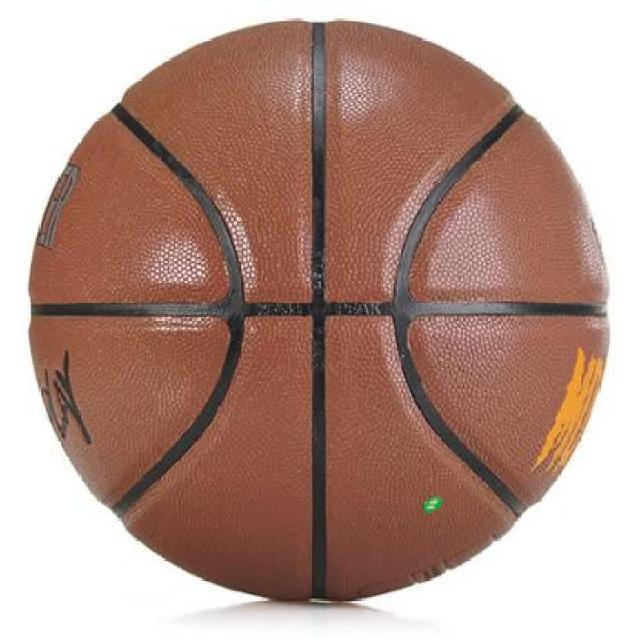basketball: (27, 18, 606, 600)
